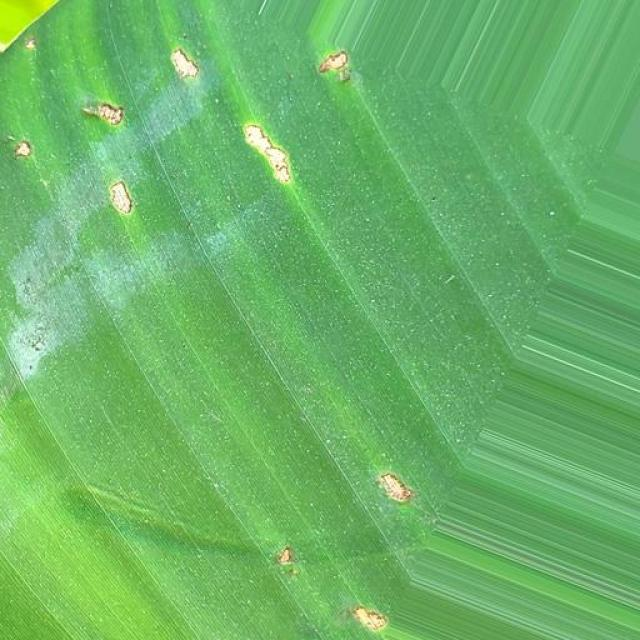Black_rot: (11, 22, 486, 634)
